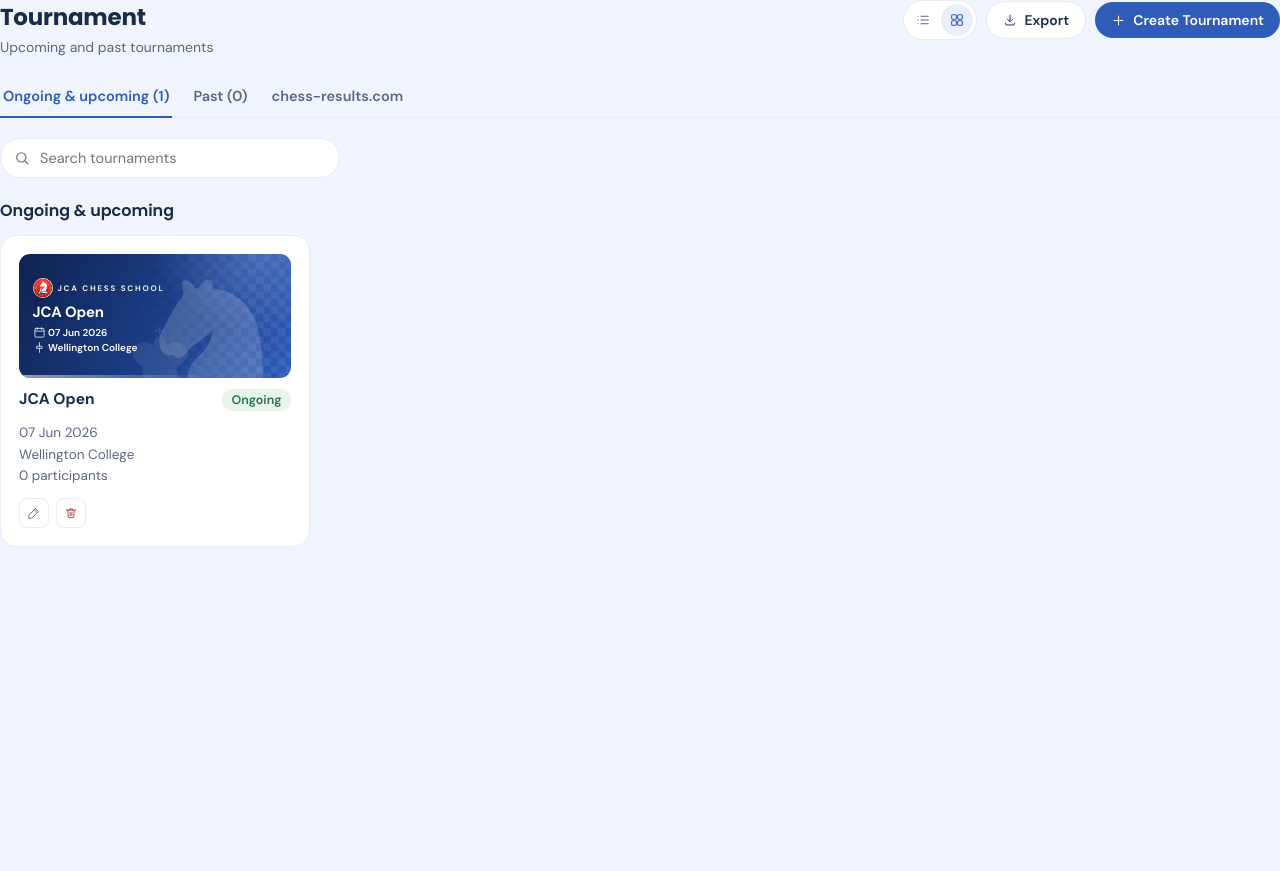
editing a tournament in place › the list's Edit shortcut opens the tournament already in edit mode, no modal involved
This screenshot has width=1280, height=871.
Click the button named "Edit JCA Open": (34, 513) [19, 498, 49, 528]
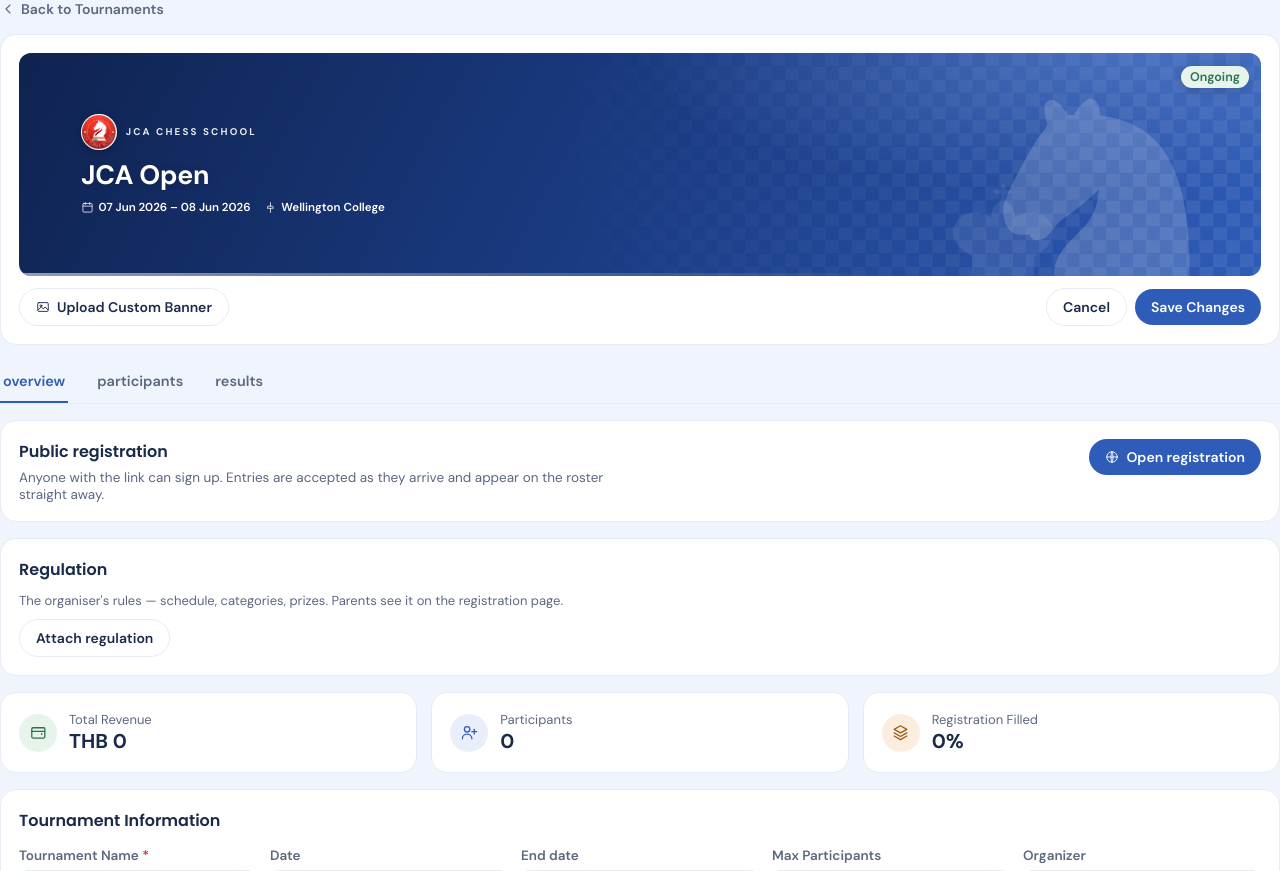
Expected: the button "Save Changes" is shown, [1135, 289, 1261, 325]
